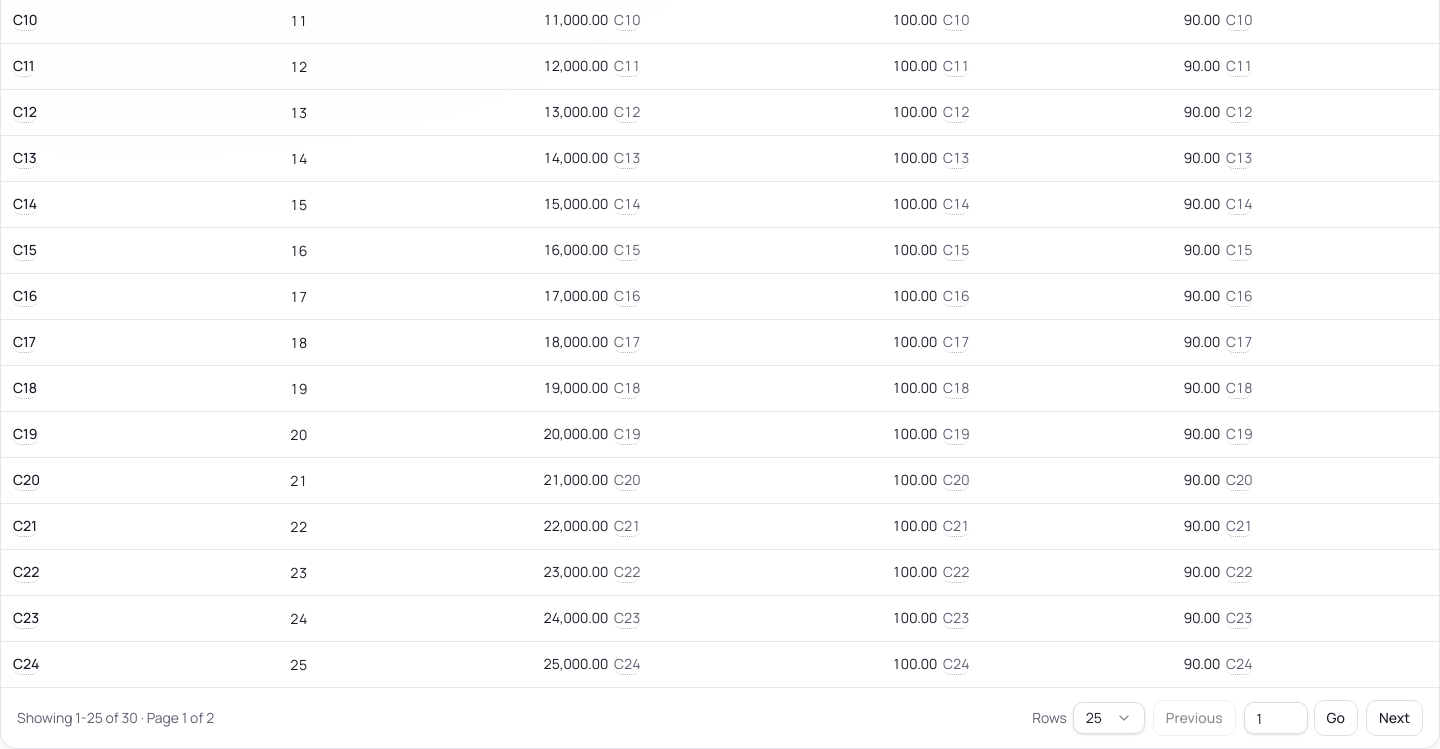
Test: TablesPage › clamps go-to-page to total pages
(page scrolled)
Replace the text in the number field named "Go to page" with "99". click: (1276, 718)
box: [1244,702,1308,734]
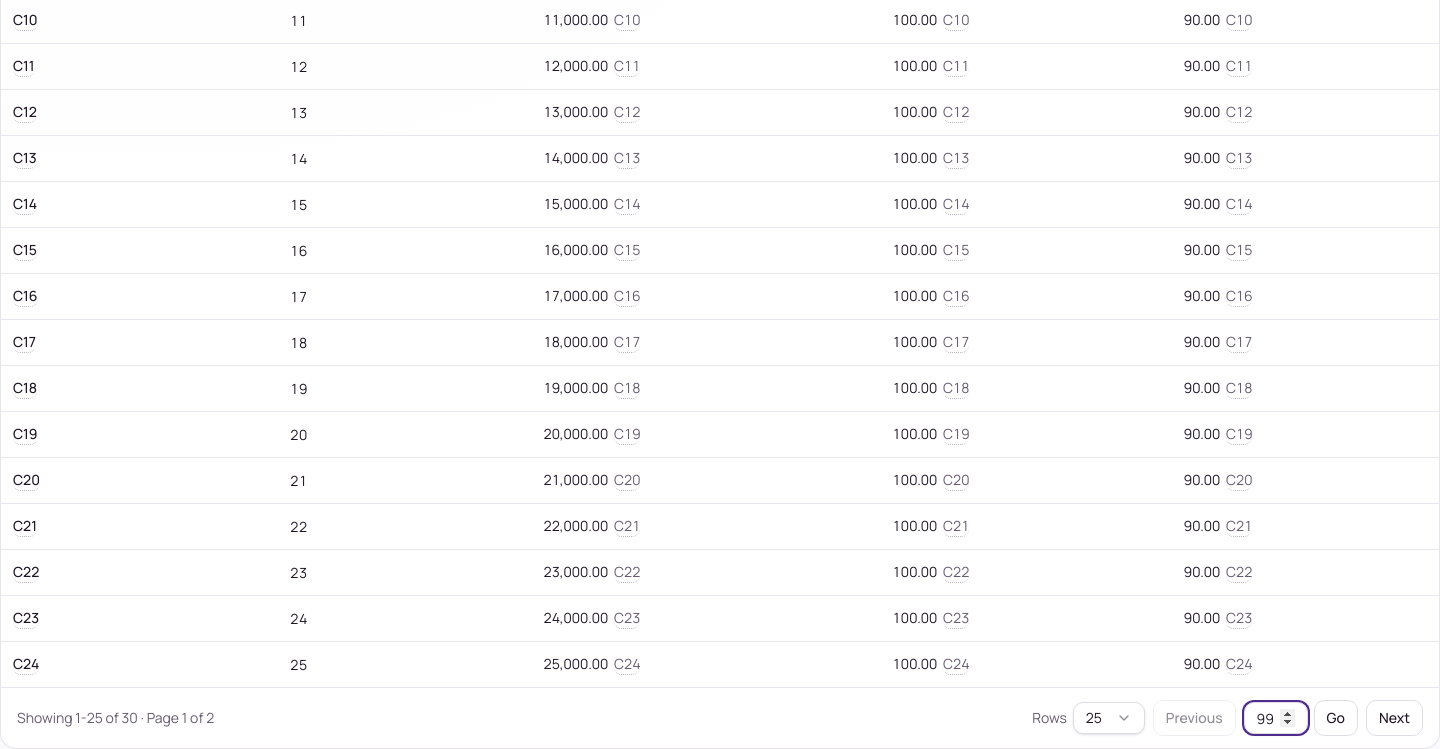
Click the button "Go". click: (1336, 718)
box: [1314,700,1358,736]
(page scrolled)
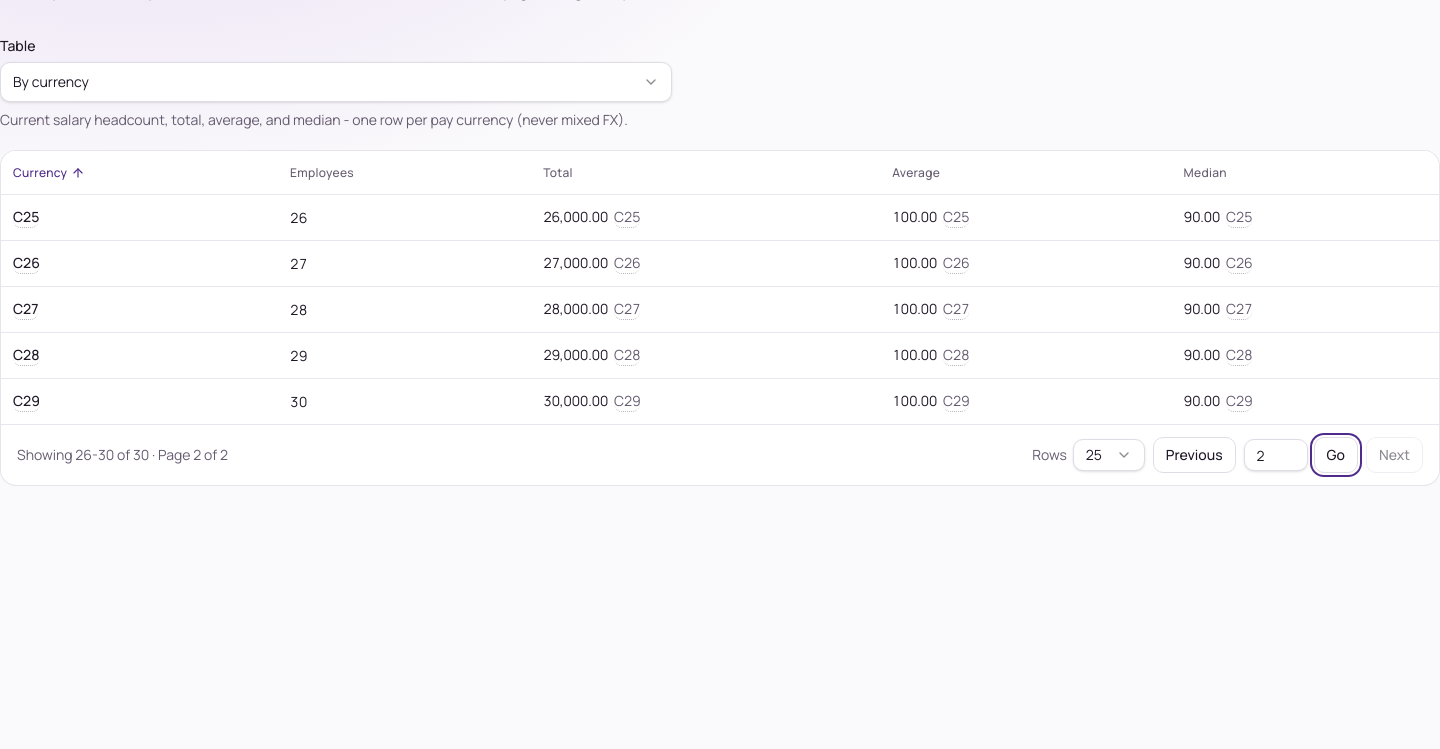
Expected: the button named "C25:" is shown, [13,207,39,228]
